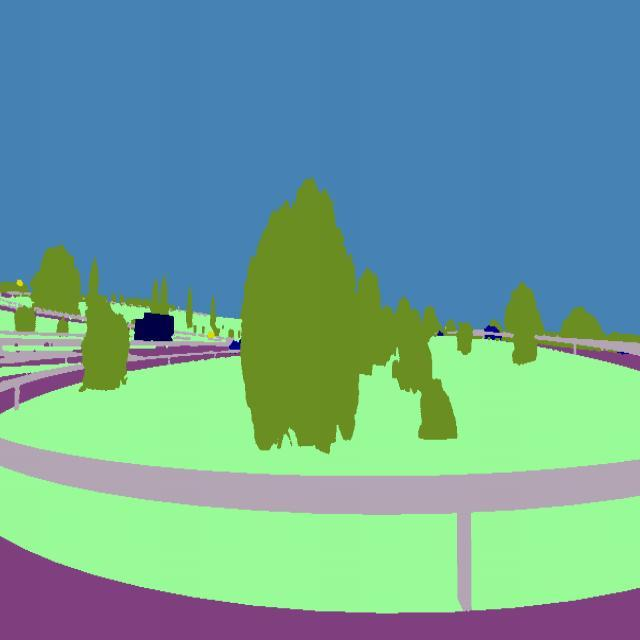safe: (130, 310, 176, 350), (482, 322, 503, 344), (230, 336, 242, 354)
